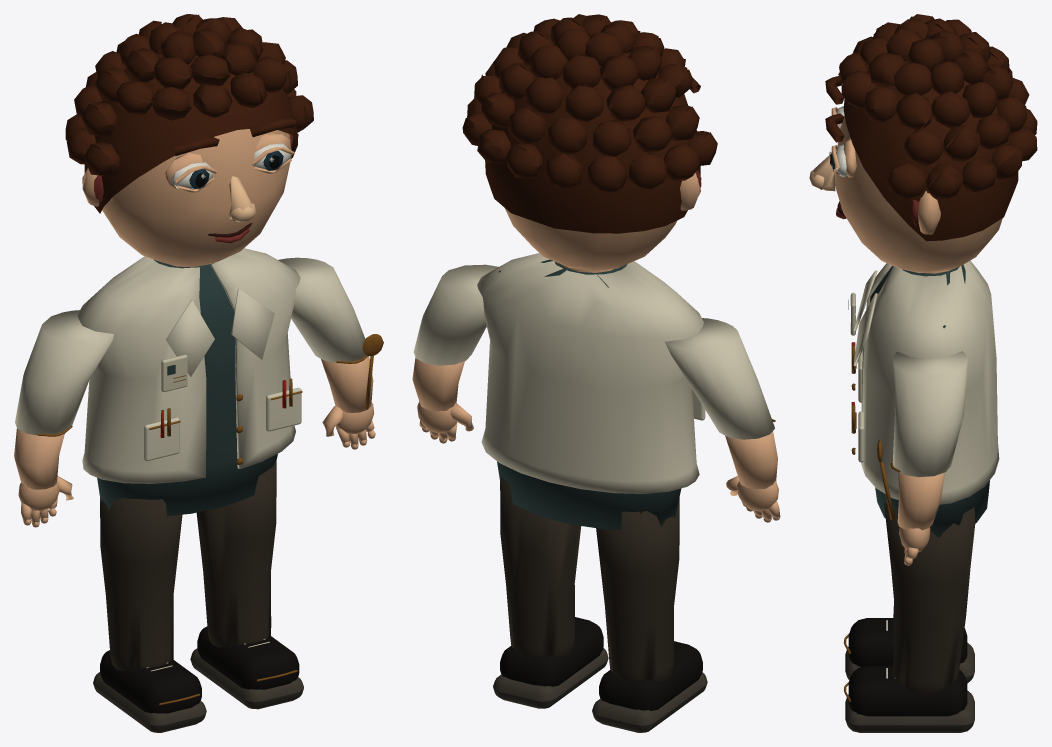
The model's file is doctor-39.glb.
3 views of the same model, side by side, from view 1: azimuth 30°, elevation 25°; view 2: azimuth 150°, elevation 25°; view 3: azimuth 270°, elevation 25° (orthographic).
Parts seen in each view (by area): view 1: Body, Head, LegL, LegR, ArmL, ArmR; view 2: Body, Head, LegL, LegR, ArmL, ArmR; view 3: Head, Body, LegR, ArmR, LegL.
Boxes of the visible parts, x1,y1,x2,y2 form: Body: [77, 223, 383, 515]; Head: [65, 14, 313, 267]; LegL: [93, 498, 206, 732]; LegR: [190, 460, 303, 709]; ArmL: [14, 310, 113, 527]; ArmR: [278, 257, 375, 449]; Body: [477, 253, 705, 529]; Head: [462, 14, 717, 270]; LegL: [592, 497, 707, 732]; LegR: [493, 476, 608, 708]; ArmL: [665, 318, 780, 522]; ArmR: [412, 264, 498, 443]; Head: [809, 14, 1037, 273]; Body: [836, 201, 999, 537]; LegR: [844, 502, 975, 732]; ArmR: [890, 351, 967, 565]; LegL: [843, 602, 974, 683].
Bounding box in the file's own units: 0.7166 × 1.29 × 0.3975.
